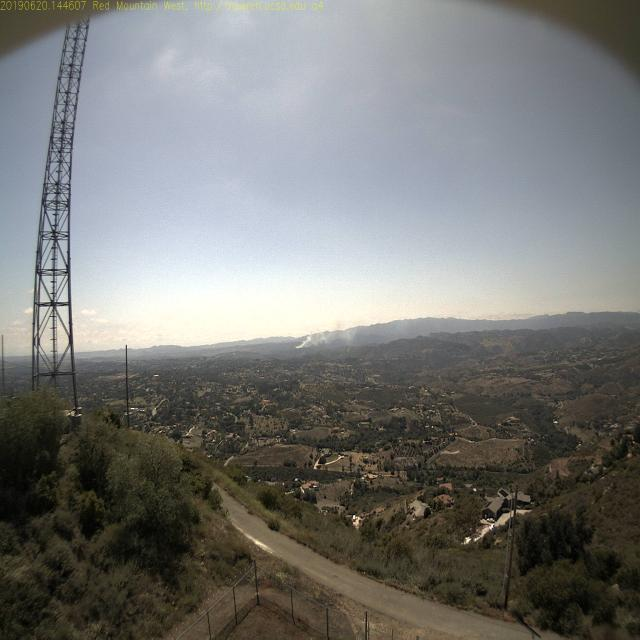smoke: (292, 326, 319, 354)
